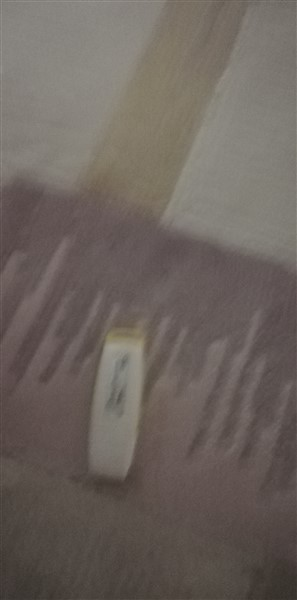flash disk: (81, 321, 154, 488)
